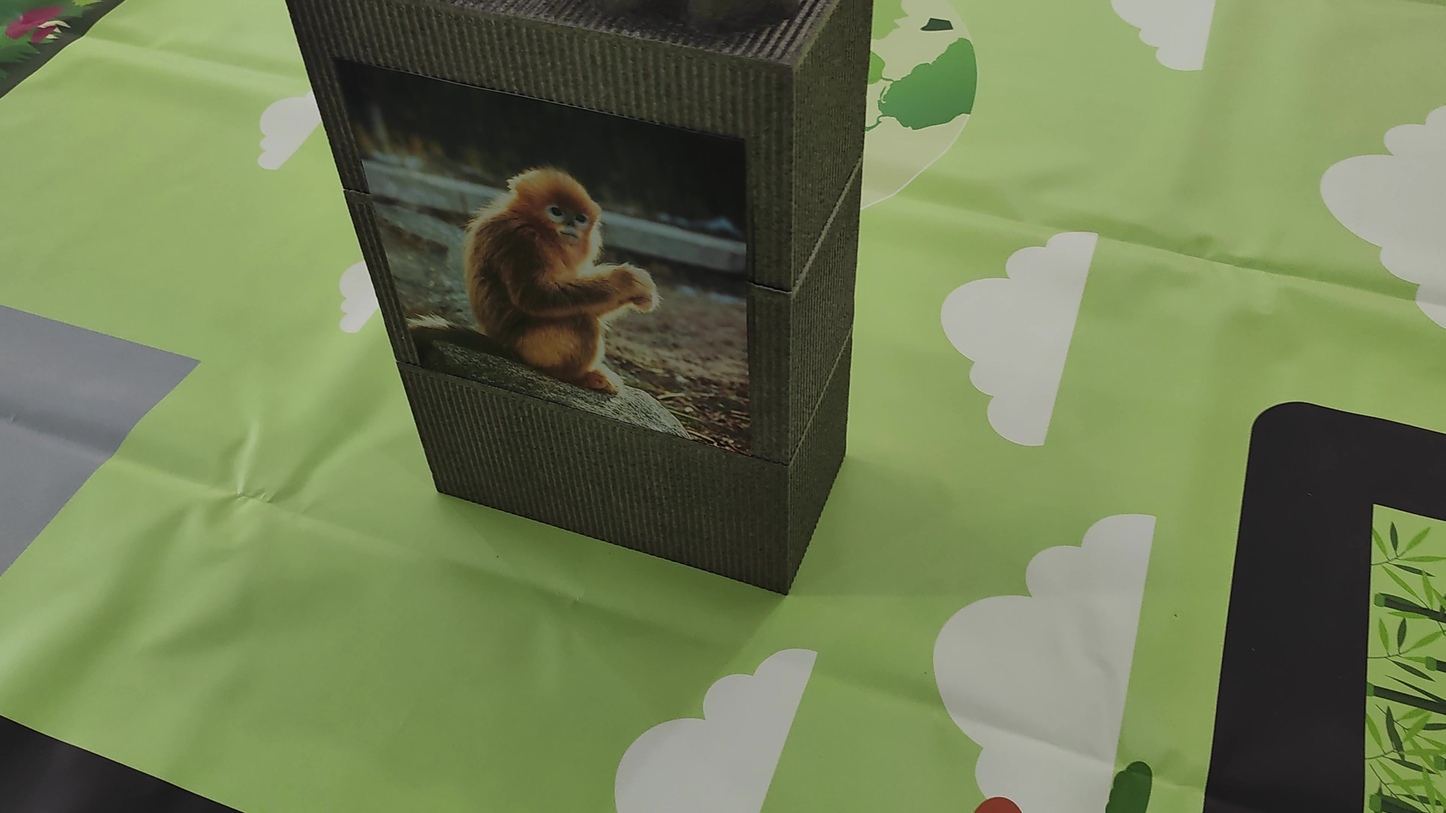monkey: (445, 137, 701, 399)
